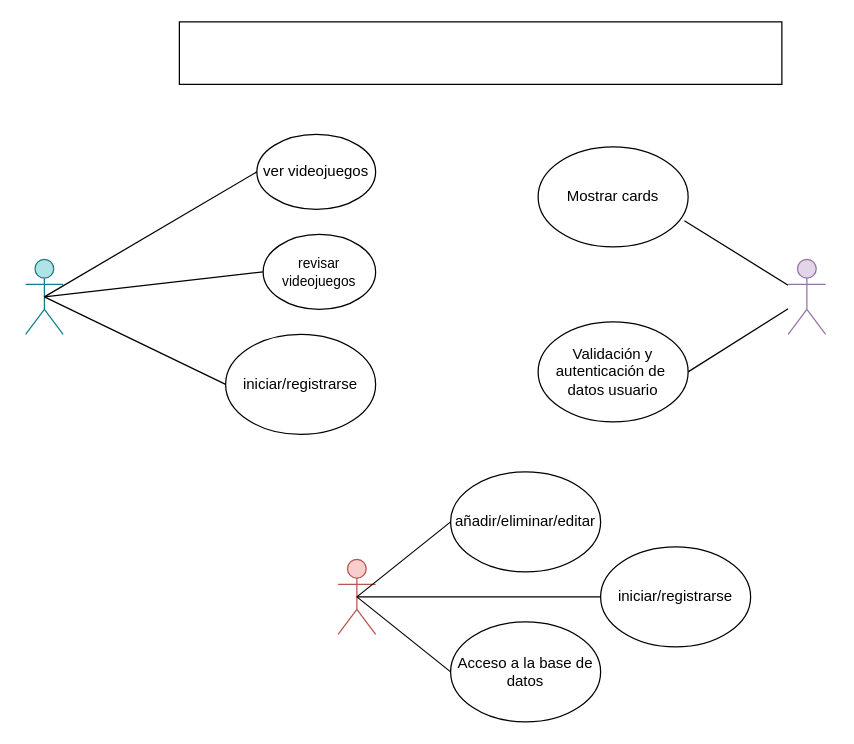
This 854x744 diagram has some shape labels left out. Here are the shapes that lost their labels. From the top down, the box of each, then its label:
(178, 21, 782, 84): Lupa
(24, 258, 63, 334): Cliente
(787, 258, 826, 334): sistema
(337, 558, 376, 634): Administrador
